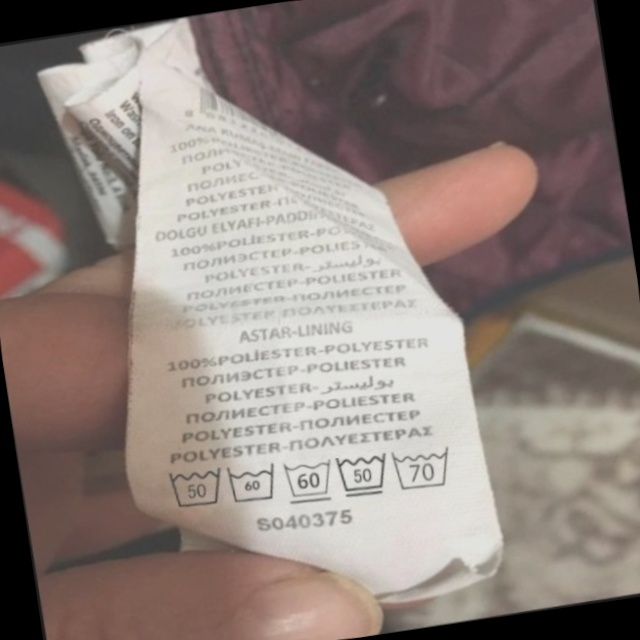50C: (159, 455, 232, 518), (330, 444, 397, 505)
60C: (279, 450, 342, 509), (222, 454, 286, 512)
70C: (388, 438, 462, 497)
